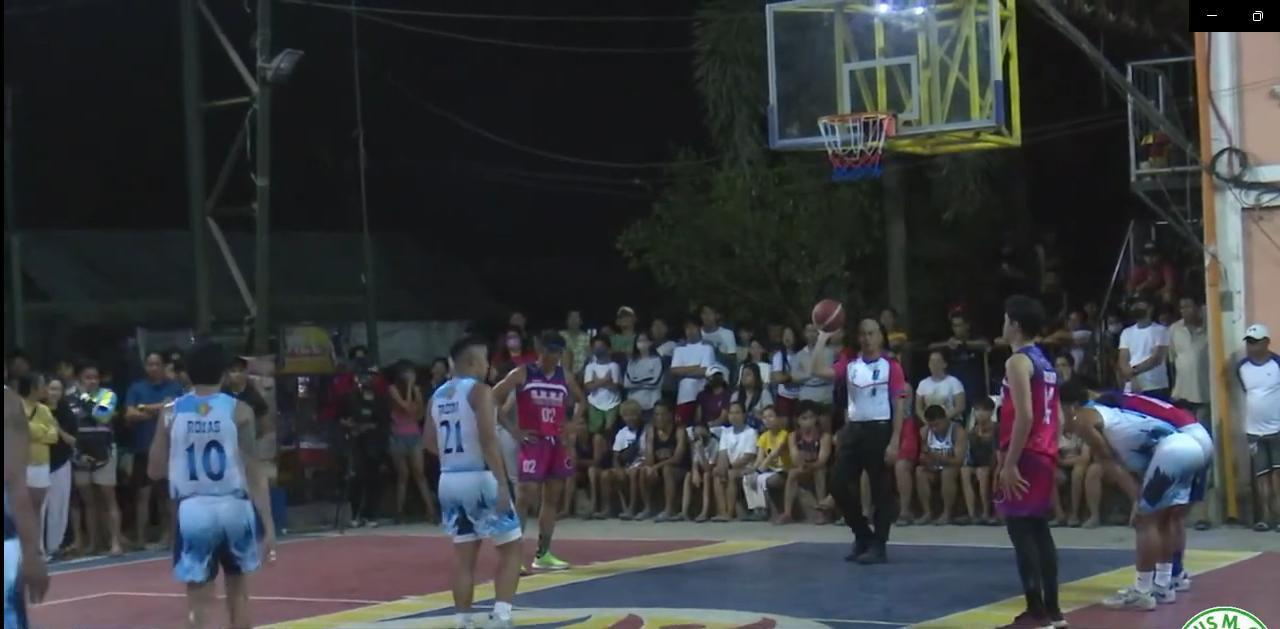ball: (807, 295, 847, 333)
human: (132, 330, 289, 629), (1055, 362, 1228, 624), (405, 327, 530, 629), (968, 290, 1076, 629), (797, 310, 915, 572), (503, 320, 586, 597)
rim: (810, 105, 897, 193)
